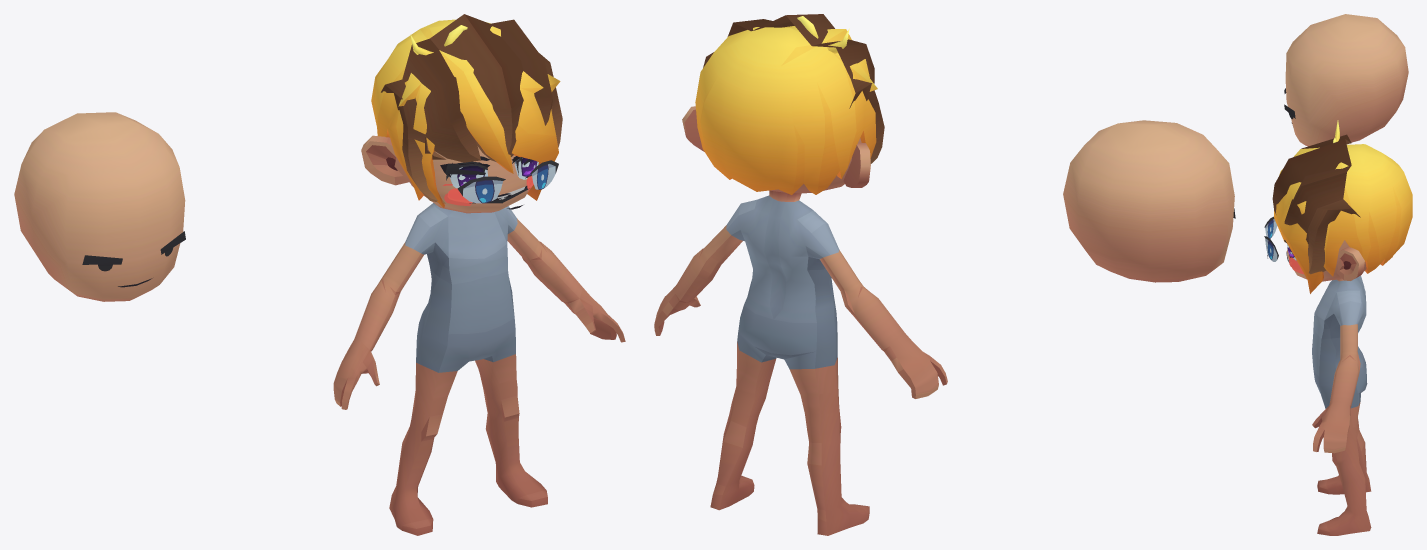
The model's file is avatar.glb.
The picture shows the model from 3 angles, left to right: view 1: azimuth 30°, elevation 25°; view 2: azimuth 150°, elevation 25°; view 3: azimuth 270°, elevation 25°; orthographic projection. The views are drawn at different scales.
Visible parts, largest first — view 1: body, Head_02, 02-Hair, 01-Hair, Plane, Face03; view 2: body, 01-Hair, Head_02, 02-Hair; view 3: Head_02, body, 01-Hair, 02-Hair, Plane.
Boxes of the visible parts, x1,y1,x2,y2 form: body: (333,135,625,535); Head_02: (14,112,185,301); 02-Hair: (381,14,562,203); 01-Hair: (371,19,560,207); Plane: (457,160,558,209); Face03: (444,157,538,205); body: (654,106,947,535); 01-Hair: (695,16,877,194); Head_02: (1063,120,1235,282); 02-Hair: (703,14,884,163); Head_02: (1284,14,1408,146); body: (1286,240,1371,535); 01-Hair: (1274,120,1412,293); 02-Hair: (1272,134,1360,274); Plane: (1264,216,1278,261).
Size of the model in its own units: 2.35 by 1.91 by 0.6951.
Materials: 1 (1 with a texture image).
